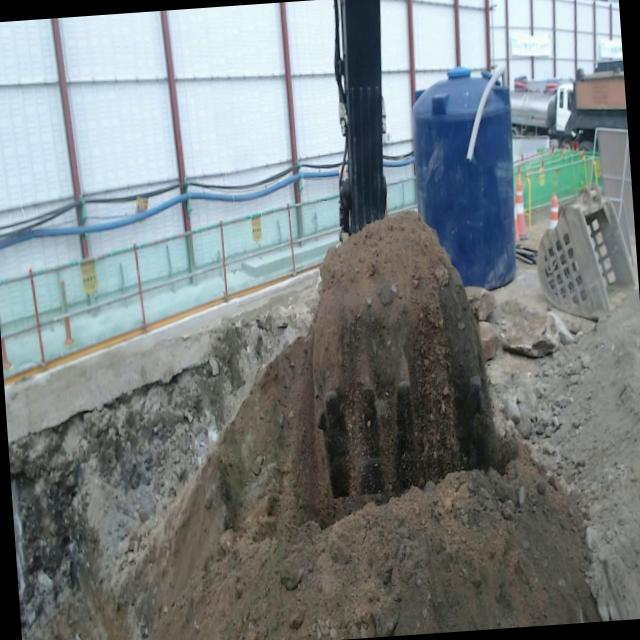red-sand: (37, 338, 599, 640), (310, 211, 480, 426)
white-sand: (561, 288, 640, 621)
